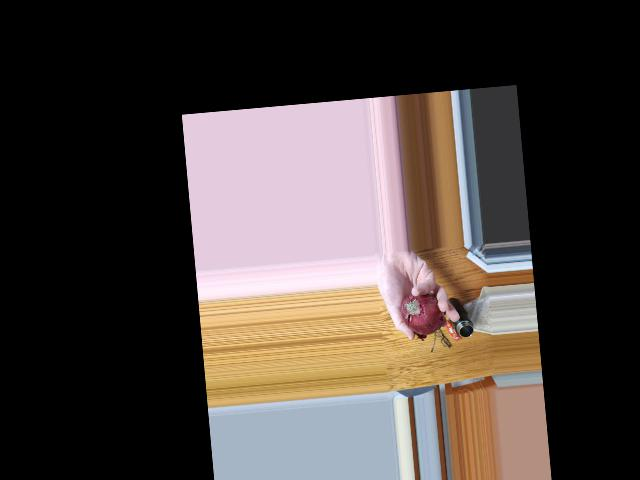onion: (400, 290, 441, 335)
